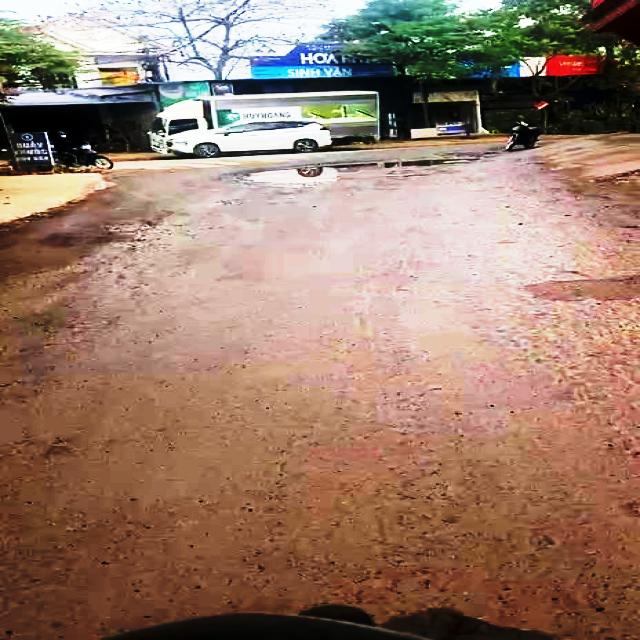pothole: (228, 152, 480, 189)
